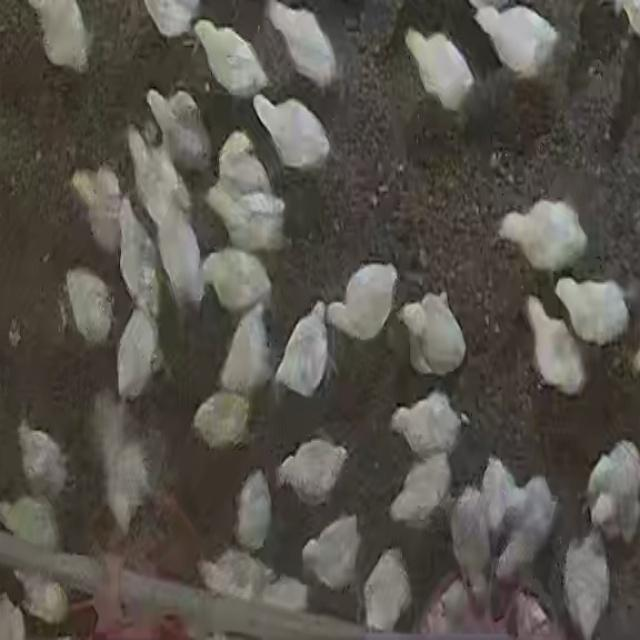chicken: (92, 393, 156, 541), (128, 118, 196, 231), (492, 474, 557, 580), (498, 196, 588, 272), (323, 259, 401, 342), (472, 3, 558, 78), (523, 294, 586, 396), (265, 1, 340, 86), (403, 26, 474, 115), (192, 18, 270, 99), (396, 291, 469, 377), (252, 92, 332, 169), (444, 480, 494, 598), (145, 86, 212, 174), (153, 196, 205, 308), (216, 128, 275, 223), (276, 302, 333, 400), (586, 439, 640, 542), (553, 274, 627, 346), (390, 390, 465, 461), (208, 185, 286, 253), (220, 302, 274, 399), (300, 511, 364, 592), (559, 527, 607, 635), (277, 436, 348, 506), (389, 453, 455, 528), (202, 246, 273, 315), (26, 1, 90, 72), (73, 165, 124, 251), (362, 547, 412, 632), (1, 498, 59, 571), (117, 307, 161, 401), (117, 200, 156, 306), (64, 268, 114, 348), (200, 546, 270, 602), (191, 389, 253, 452), (19, 419, 69, 494), (11, 557, 67, 621), (234, 467, 273, 552), (477, 460, 525, 529), (140, 1, 201, 39)
